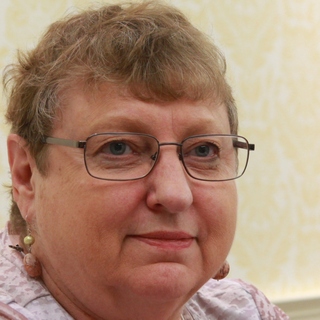eye: (90, 134, 142, 167), (177, 138, 225, 166)
